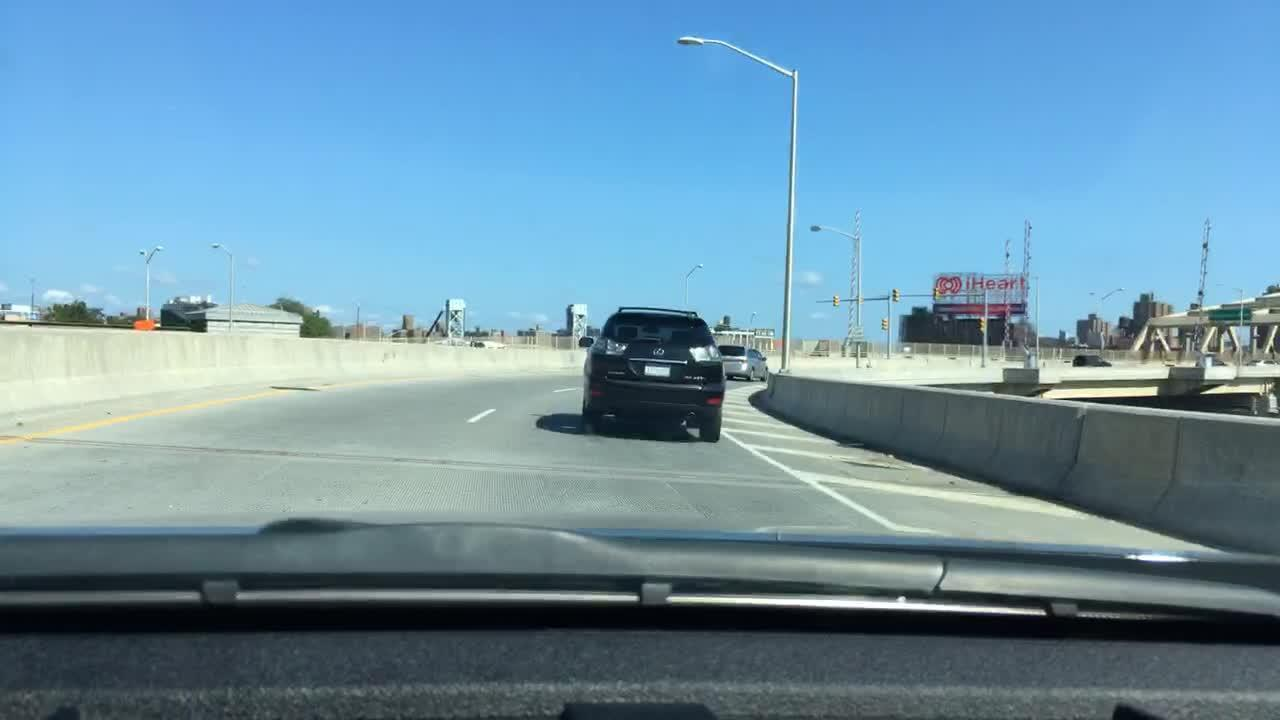lexus: (648, 342, 669, 358)
